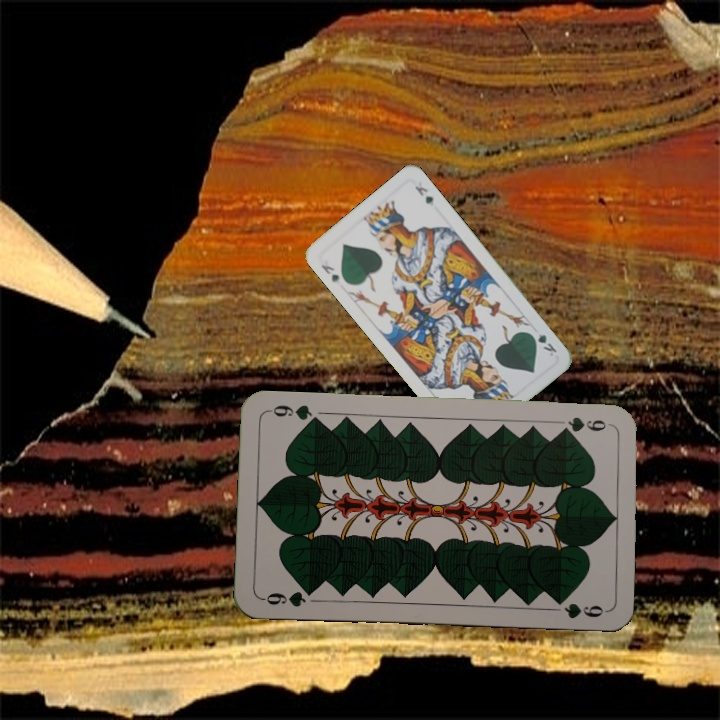G9: (258, 585, 318, 610), (555, 412, 614, 435)
GK: (525, 328, 559, 359), (317, 260, 342, 285)
